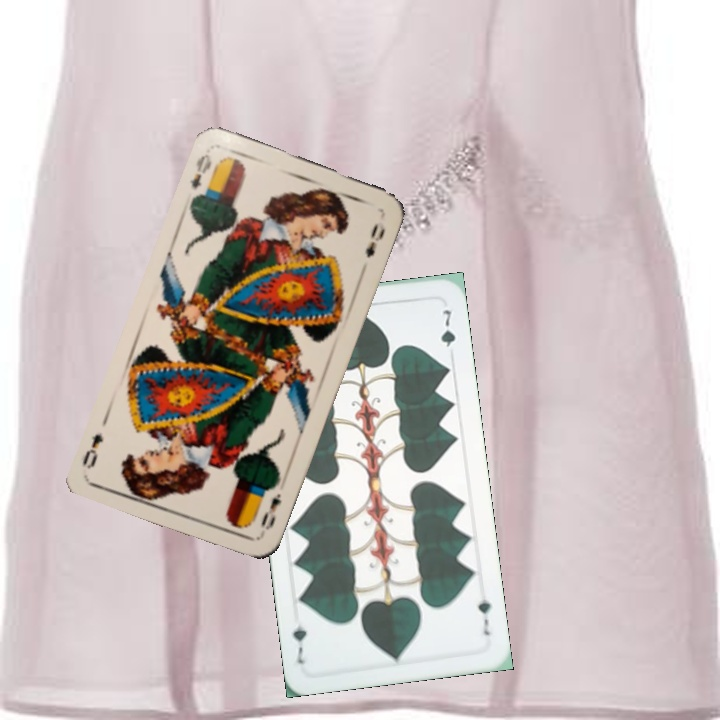EO: (256, 489, 285, 533), (186, 150, 215, 192)
G7: (474, 586, 493, 638)
